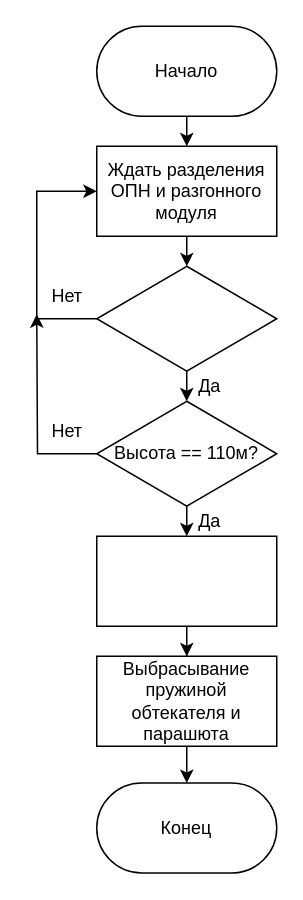
The diagram is 303 pixels wide and 900 high, and some of its shapes have lost their labels. The shapes that lost their labels are listed below. From the top down, each one's box as (x1, y1, x2, y2) in pixels, then its label:
(95, 265, 277, 371): Разделение произошло?
(95, 535, 277, 626): Запуск сервопривода
